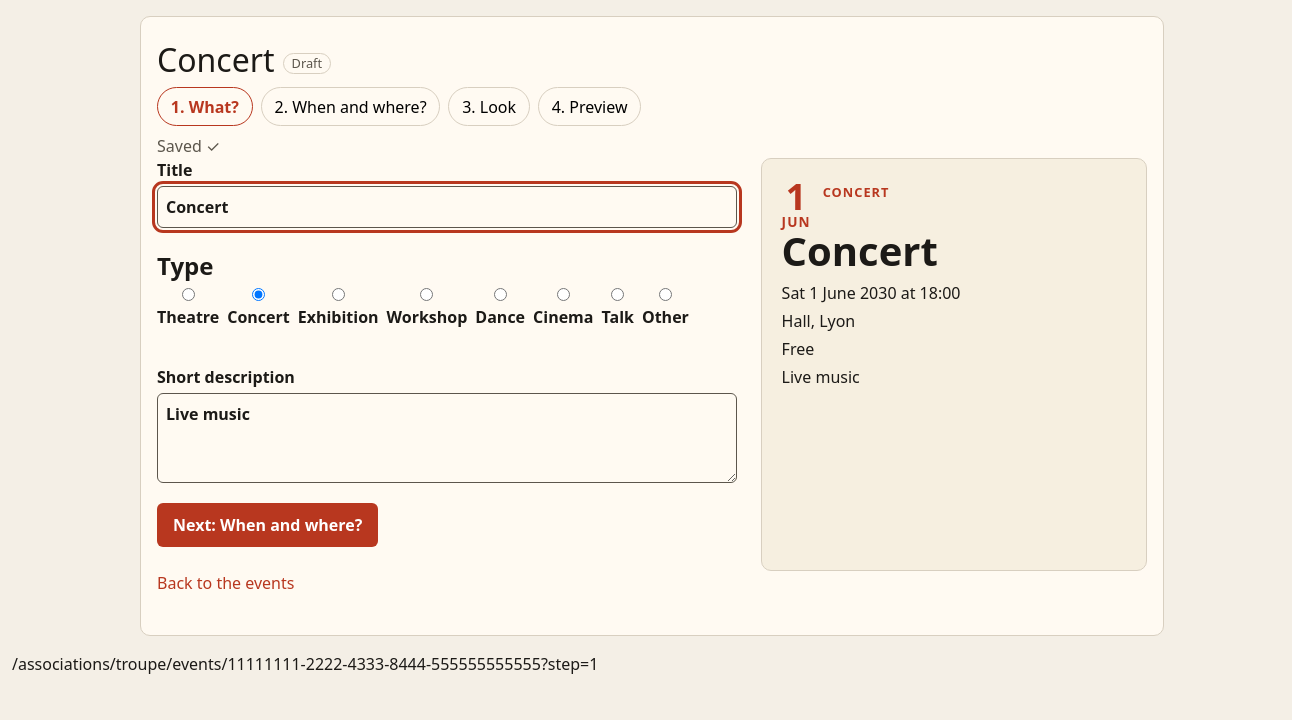
Test: create and save (UC15, UC16) › field refusals from the API are shown inline on the field
Expected: the navigation bar named "Steps" is shown, [157,87,641,126]
Replace the text in the field labelled "Title" with "Bad" at (447, 207), box [157,186,737,228]
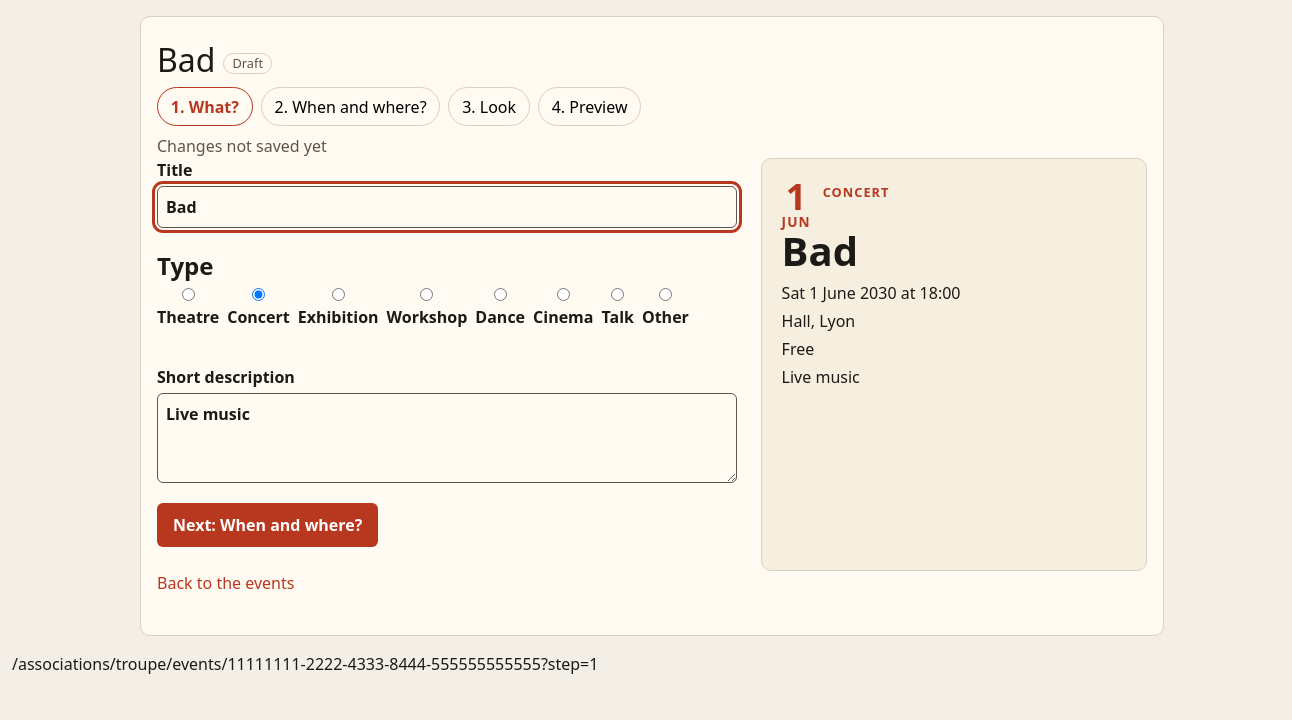
Leave the field labelled "Title", box [157,186,737,228]
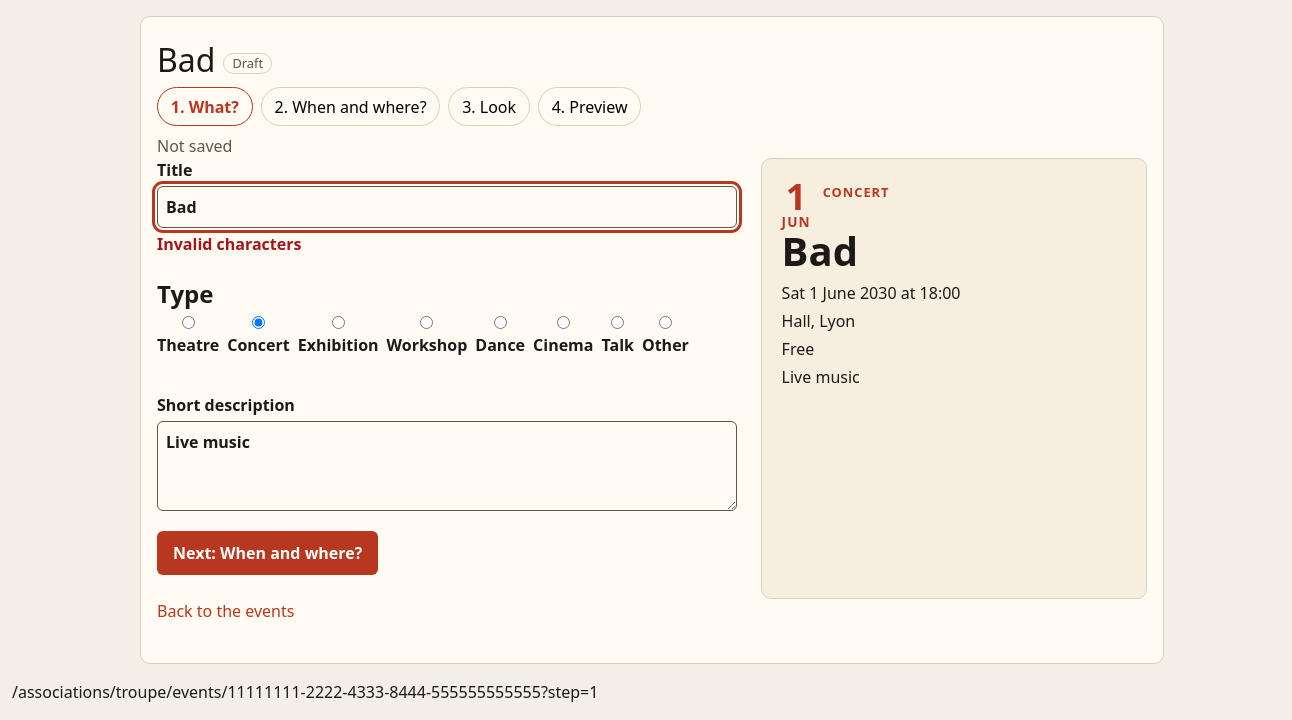
Expected: the text "Invalid characters" is shown, [157,233,301,255]
